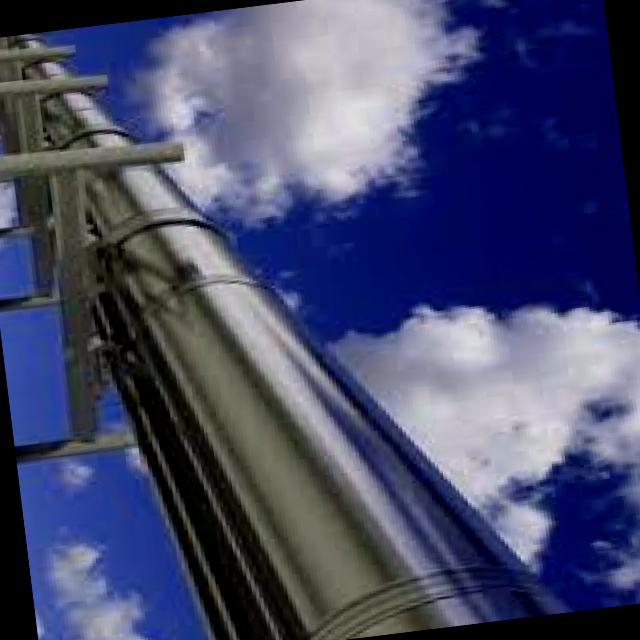gas: (82, 165, 564, 640), (31, 94, 131, 144)
